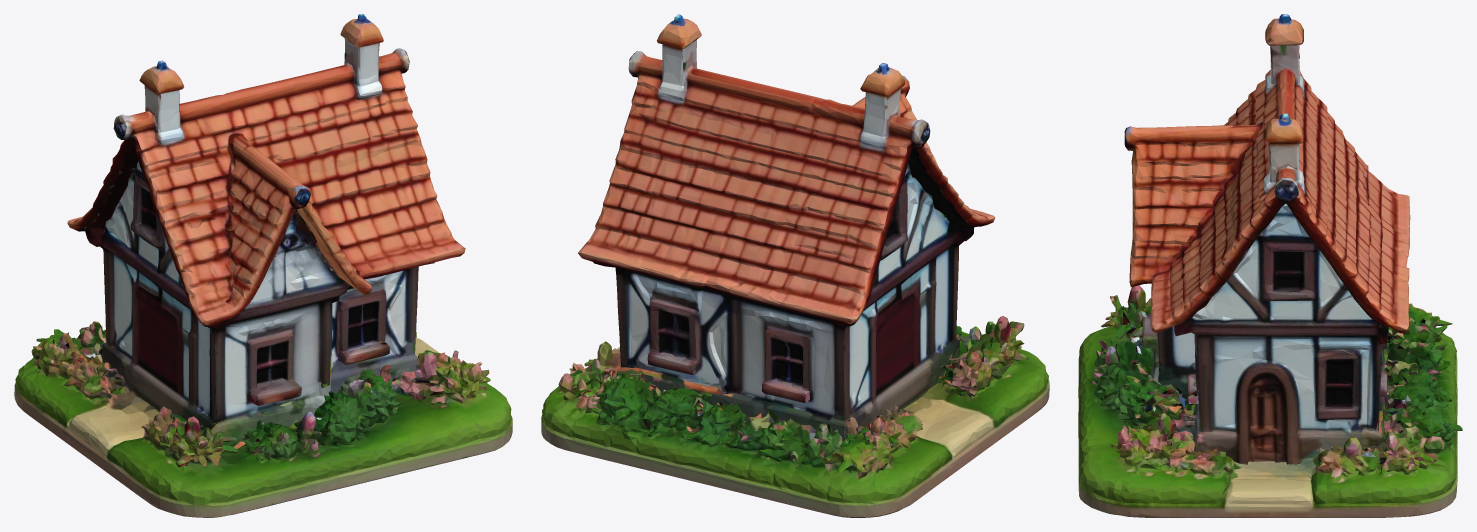
The model's file is village_cottage_a.glb.
The picture shows the model from 3 angles, left to right: view 1: azimuth 30°, elevation 25°; view 2: azimuth 150°, elevation 25°; view 3: azimuth 270°, elevation 25°; orthographic projection. The views are drawn at different scales.
Parts seen in each view (by area): view 1: tmphwedi8ja.ply; view 2: tmphwedi8ja.ply; view 3: tmphwedi8ja.ply.
Part boxes in pixels (x1=…): tmphwedi8ja.ply: x1=14, y1=14, x2=512, y2=517; tmphwedi8ja.ply: x1=541, y1=14, x2=1049, y2=517; tmphwedi8ja.ply: x1=1078, y1=14, x2=1462, y2=517.
Bounding box in the file's own units: 1.99 × 1.99 × 1.87.
1 material, 1 textured.
